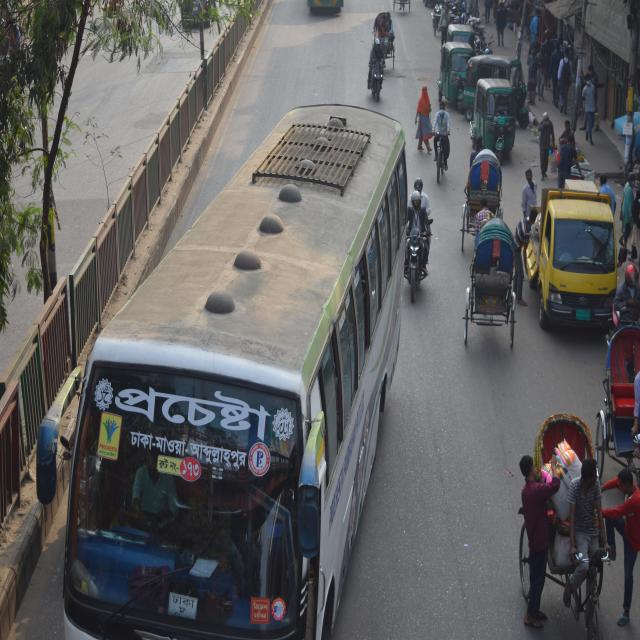bus: (54, 81, 422, 640)
motorbike: (517, 177, 634, 363), (403, 178, 447, 312), (424, 103, 454, 191)
